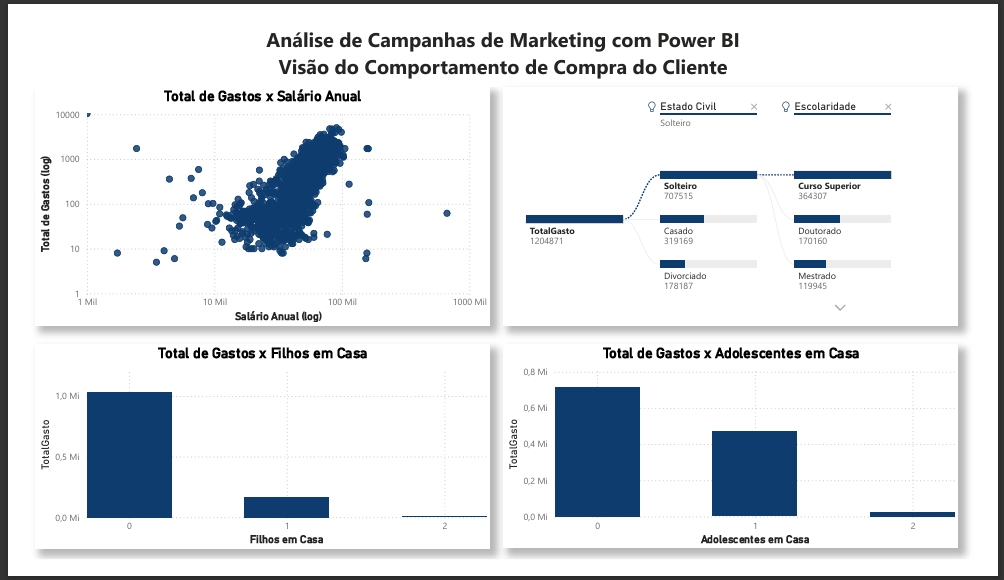

What the dashboard file says about the page in this screenshot:
{"tool":"powerbi","page":{"name":"Visão Comportamento","canvas":[1280,720],"ordinal":1},"visuals":[{"type":"scatterChart","title":"Total de Gastos x Salário Anual","fields":{"X":["dados_marketing.Salario Anual"],"Y":["dados_marketing.TotalGasto"]},"box":[13.2,87.8,610,319],"z":0},{"type":"clusteredColumnChart","title":"Total de Gastos x Filhos em Casa","fields":{"Y":["dados_marketing.TotalGasto"],"Category":["dados_marketing.Filhos em Casa"]},"box":[13.2,433.2,610.2,273.7],"z":1000},{"type":"textbox","box":[0,0,1280.5,87.8],"z":2000},{"type":"clusteredColumnChart","title":"Total de Gastos x  Adolescentes em Casa","fields":{"Y":["dados_marketing.TotalGasto"],"Category":["dados_marketing.Adolescentes em Casa"]},"box":[641,432.7,610,273.7],"z":3000},{"type":"decompositionTreeVisual","fields":{"Analyze":["dados_marketing.TotalGasto"],"ExplainBy":["dados_marketing.Estado Civil","dados_marketing.Escolaridade"]},"box":[641,87.8,610,319],"z":4000}]}

Visuals, with their boxes in screenshot pixels (x1, y1, x2, y2), scaled from the page's 1280x720 canvas onto the 1004x580 screenshot:
"Total de Gastos x Salário Anual" scatterChart: rect(10, 71, 489, 328)
"Total de Gastos x Filhos em Casa" clusteredColumnChart: rect(10, 349, 489, 569)
textbox: rect(0, 0, 1003, 71)
"Total de Gastos x  Adolescentes em Casa" clusteredColumnChart: rect(503, 349, 981, 569)
decompositionTreeVisual - dados_marketing.TotalGasto x dados_marketing.Estado Civil: rect(503, 71, 981, 328)
